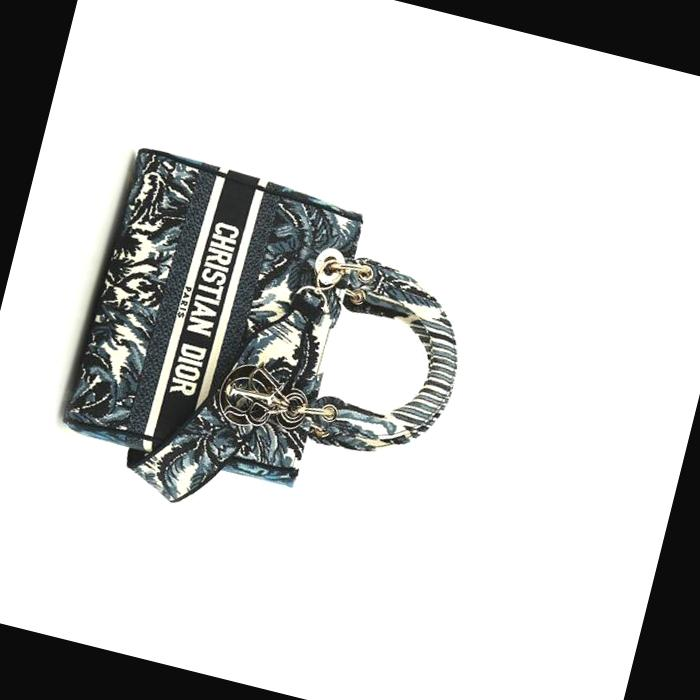DIOR: (160, 210, 250, 409)
